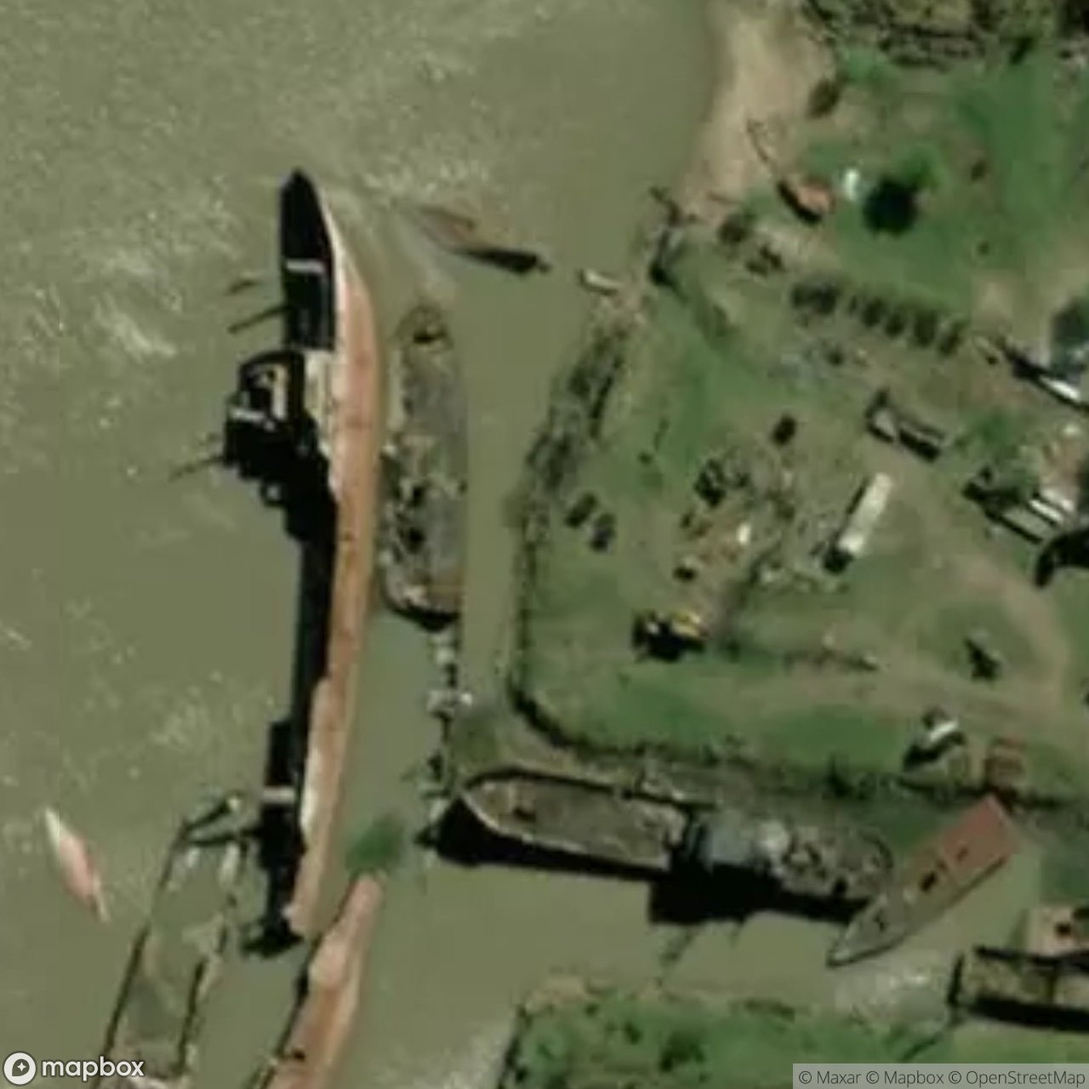Wreck: (129, 132, 438, 1089)
